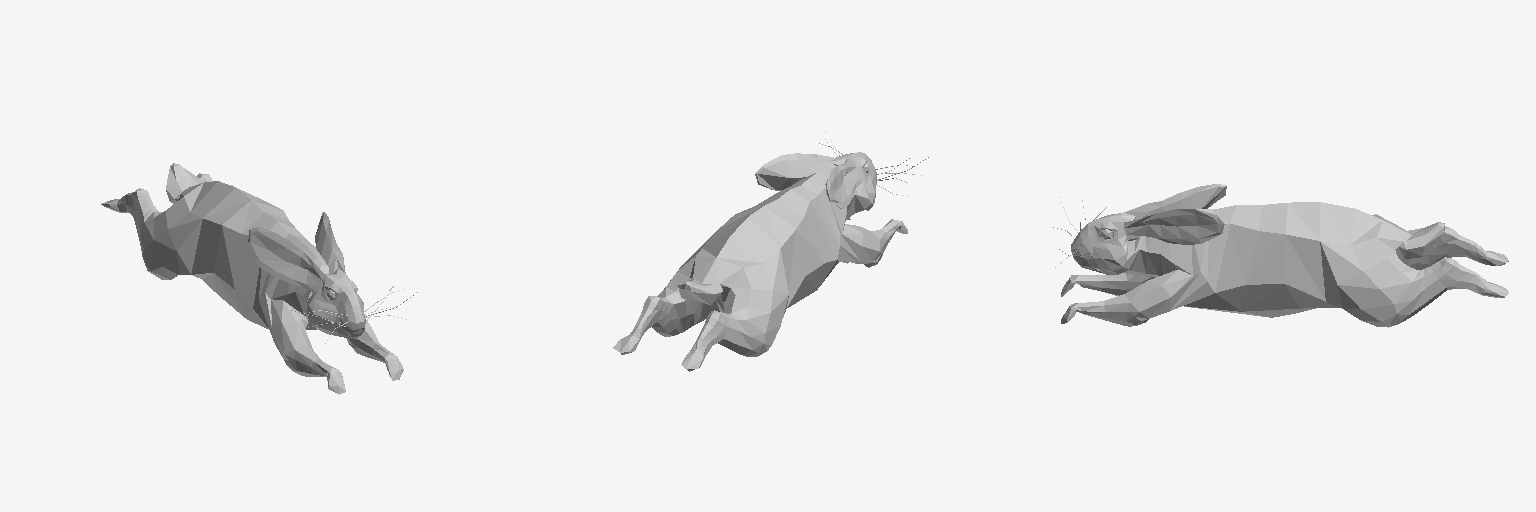
File: rabbit_000005.obj
3 renders of one model, left to right at view 1: azimuth 30°, elevation 25°; view 2: azimuth 150°, elevation 25°; view 3: azimuth 270°, elevation 25°, orthographic.
Visible parts, largest first — view 1: Rabbit_Cylinder; view 2: Rabbit_Cylinder; view 3: Rabbit_Cylinder.
Part boxes in pixels (x1,y1,x2,y2): Rabbit_Cylinder: (101,163,417,394); Rabbit_Cylinder: (613,130,928,371); Rabbit_Cylinder: (1053,184,1508,327).
Bounding box in the file's own units: 7.03 × 7.58 × 25.46.